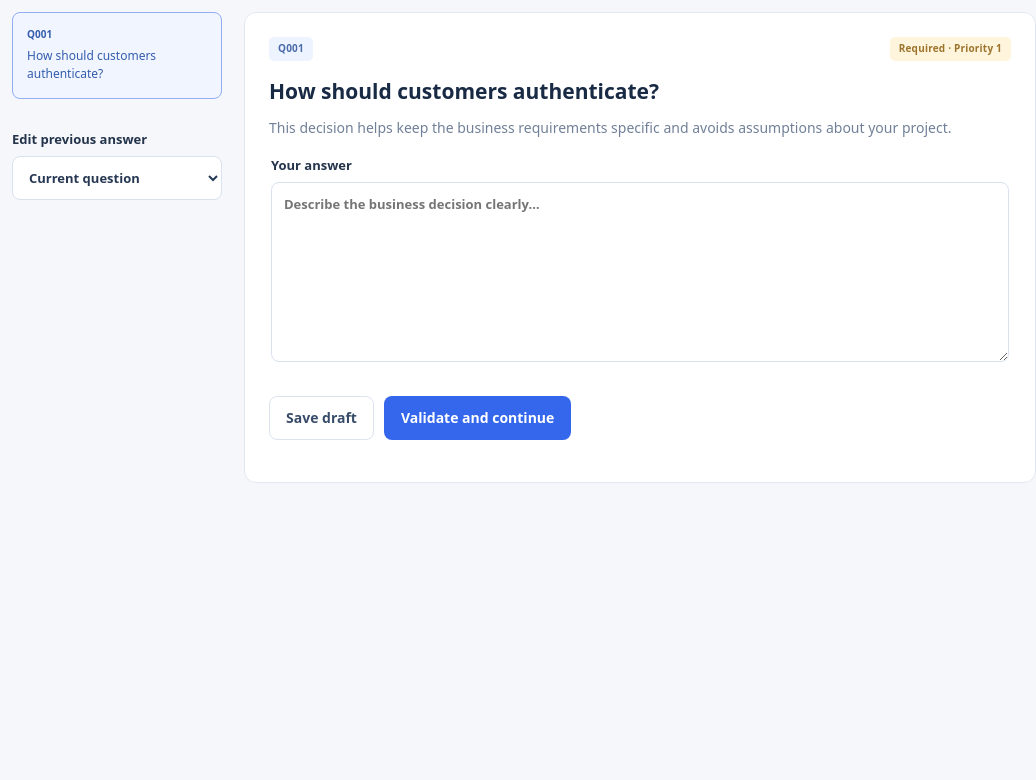
Test: preserves answer text and displays model validation errors
In the text box labelled "Your answer": (640, 272) [271, 182, 1009, 362], type "Customers use email and password."
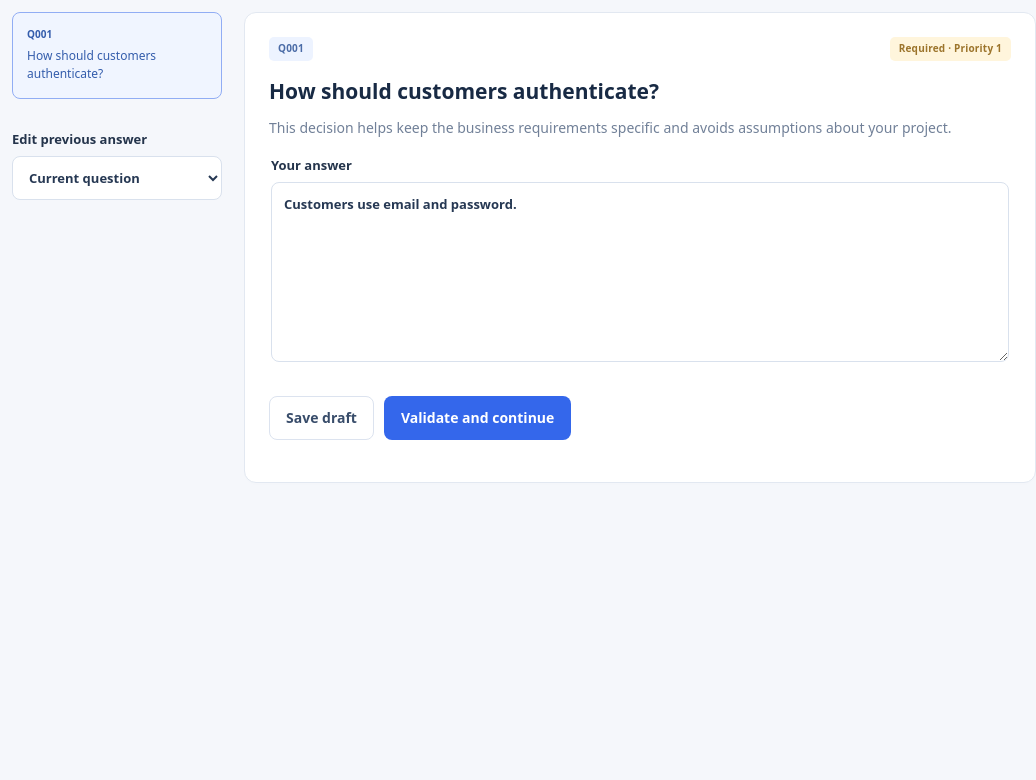
Click the button "Validate and continue": (478, 418) [384, 396, 571, 440]
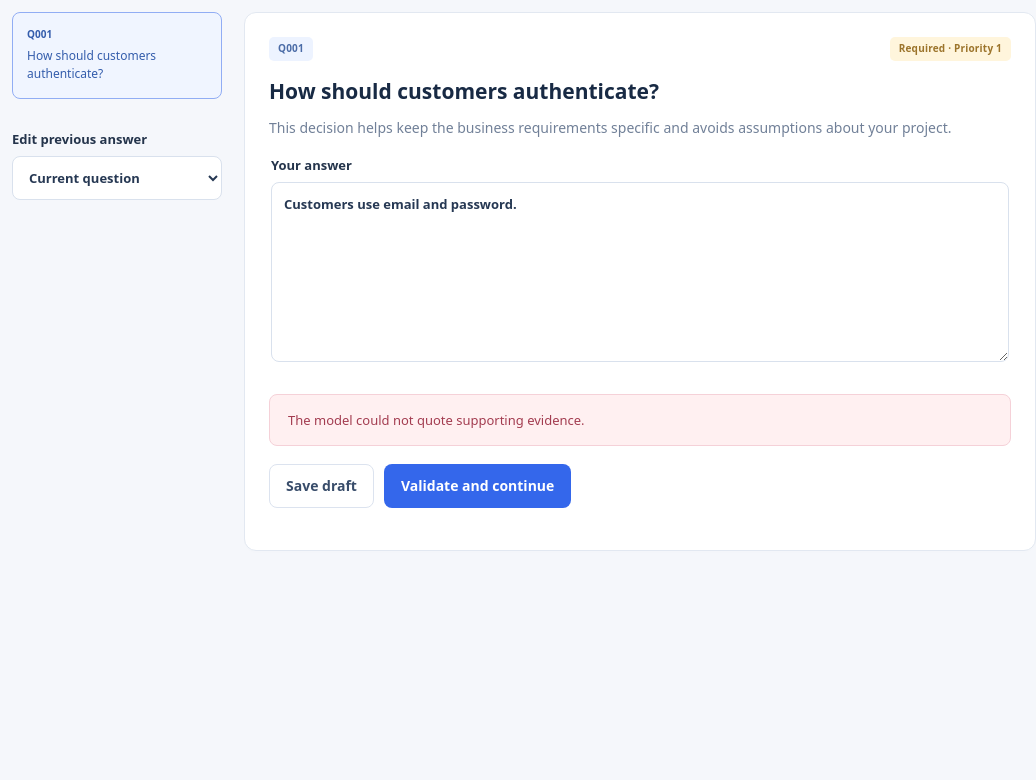
Check: the message "The model could not quote supporting evidence." is shown, box [269, 394, 1011, 446]
